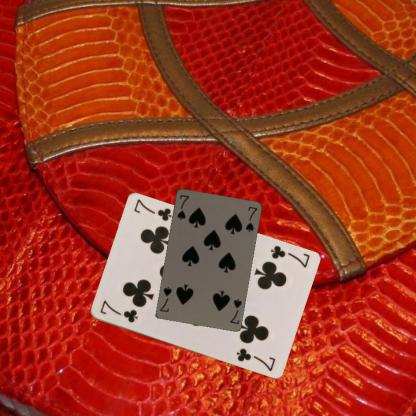7c: (267, 243, 311, 269), (97, 298, 139, 324)
7s: (227, 296, 243, 325), (175, 192, 190, 221)
